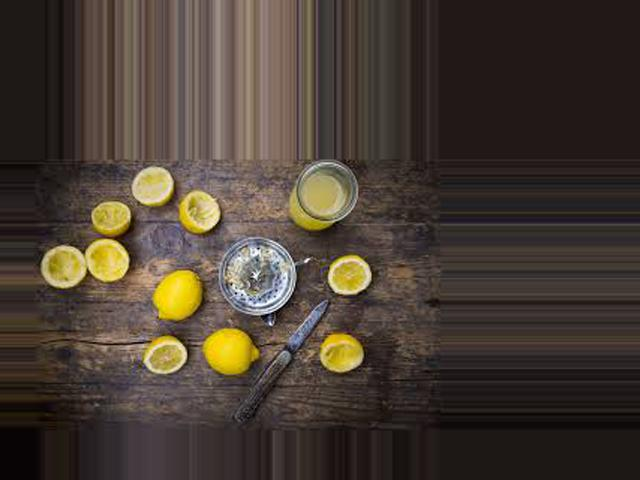lemon: (183, 320, 256, 372)
